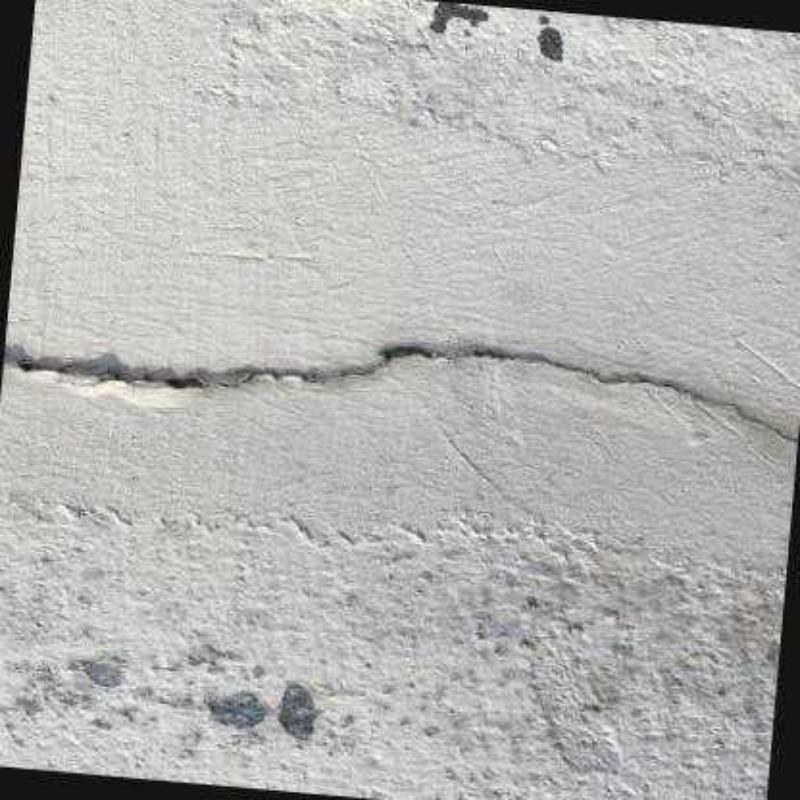crack: (1, 338, 798, 456)
